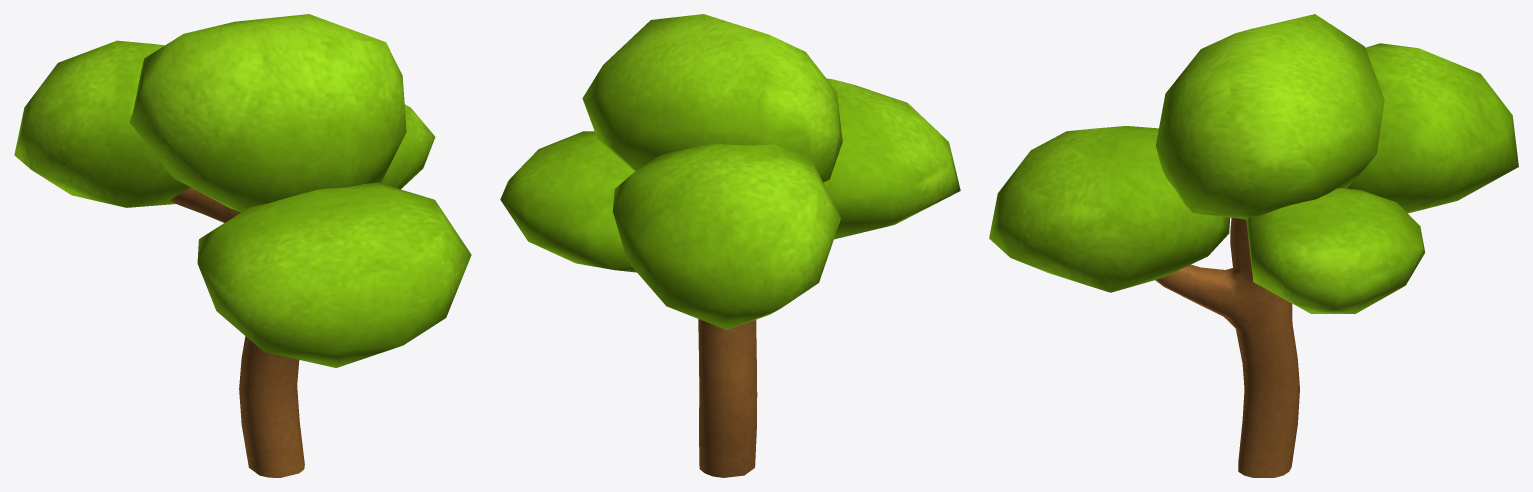
The model's file is Tree_02.fbx.
3 views of the same model, side by side, from view 1: azimuth 30°, elevation 25°; view 2: azimuth 150°, elevation 25°; view 3: azimuth 270°, elevation 25° (orthographic). The views are drawn at different scales.
Visible parts, largest first — view 1: Cylinder.001; view 2: Cylinder.001; view 3: Cylinder.001.
Part boxes in pixels (x1,y1,x2,y2): Cylinder.001: [14, 14, 471, 477]; Cylinder.001: [500, 14, 960, 477]; Cylinder.001: [989, 14, 1518, 477].
Size of the model in its own units: 693 by 836 by 934.
